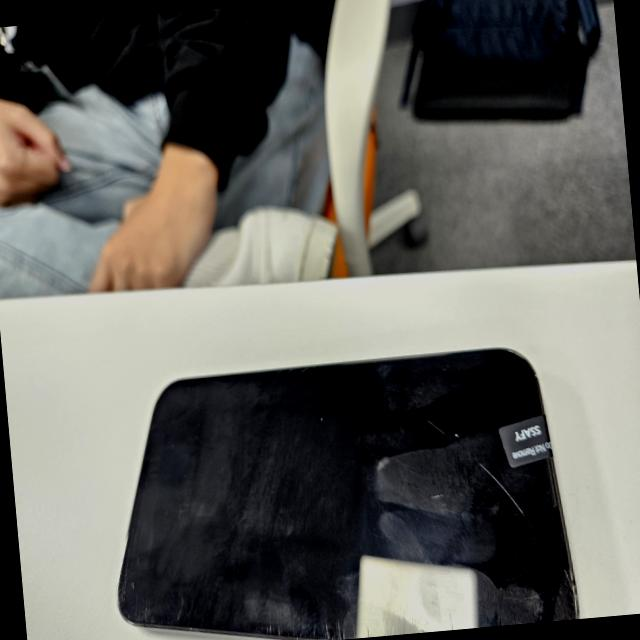phone: (98, 341, 578, 640)
sticker: (496, 413, 552, 467)
